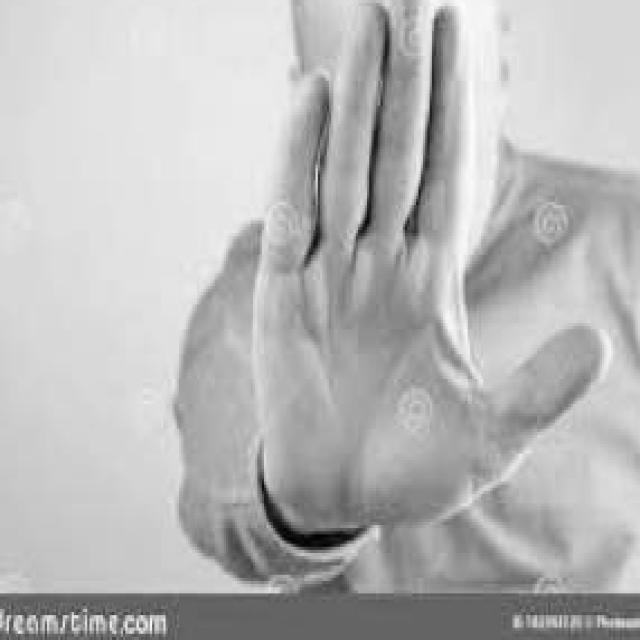stop: (246, 0, 615, 537)
